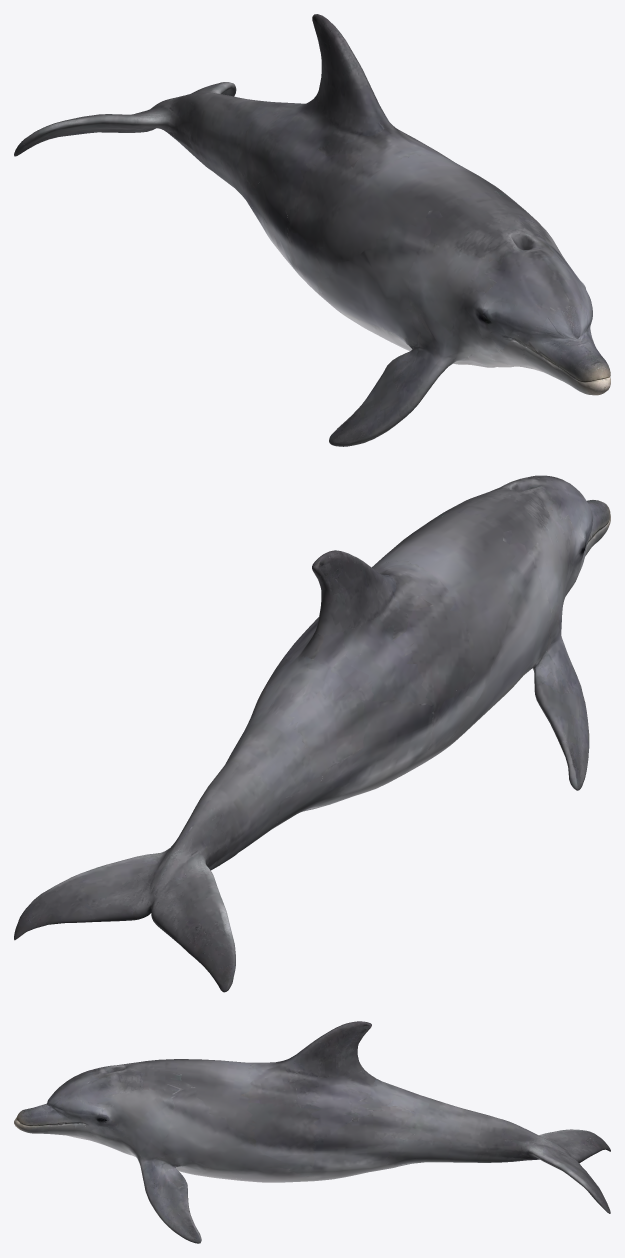
Rendered from dolphin.glb.
3 renders of one model, top to bottom at view 1: azimuth 30°, elevation 25°; view 2: azimuth 150°, elevation 25°; view 3: azimuth 270°, elevation 25°, orthographic. The views are drawn at different scales.
Visible parts, largest first — view 1: dolphin; view 2: dolphin; view 3: dolphin.
Part boxes in pixels (x1,y1,x2,y2): dolphin: (14, 14, 610, 446); dolphin: (14, 475, 610, 992); dolphin: (14, 1021, 610, 1243).
Bounding box in the file's own units: 0.8324 × 0.9568 × 2.8.
1 material, 1 textured.
